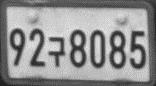0: (89, 29, 105, 68)
2: (28, 28, 46, 67)
5: (129, 30, 146, 69)
8: (69, 29, 87, 68), (109, 29, 126, 69)
9: (9, 27, 26, 66)
구: (47, 36, 65, 67)
